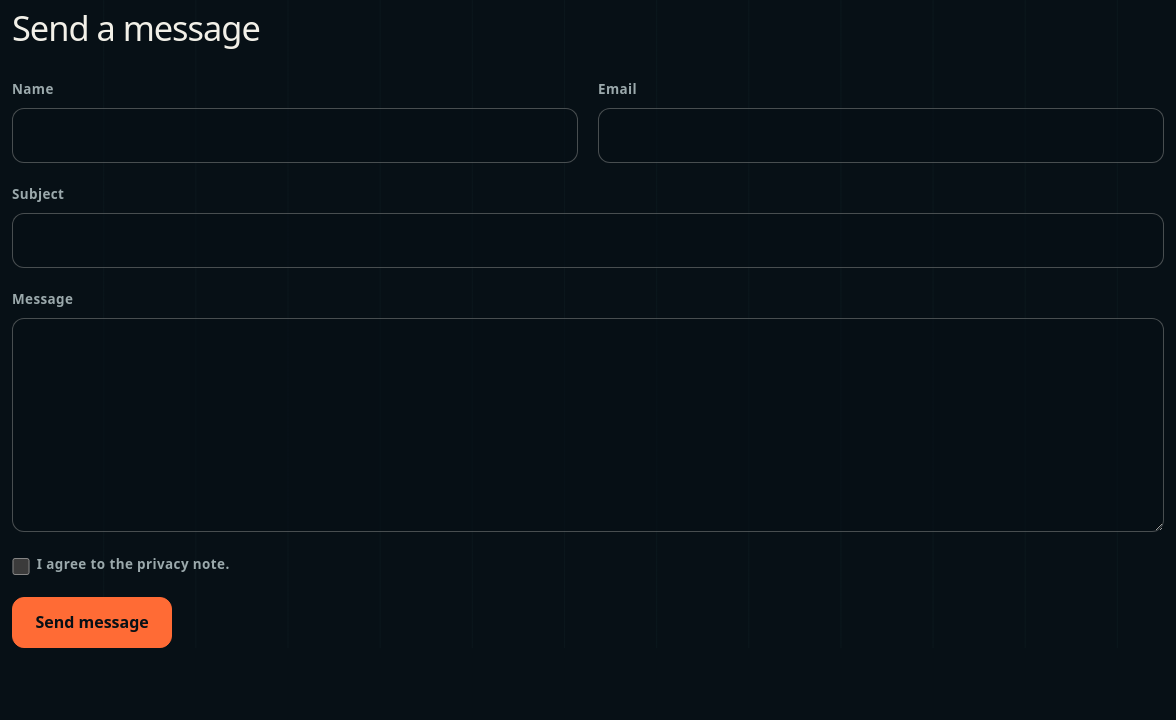
Test case: ContactForm › disables the submit button while delivery is pending
Type "Ada Lovelace" into the field labelled "Name" at [295, 136], box [12, 108, 578, 163]
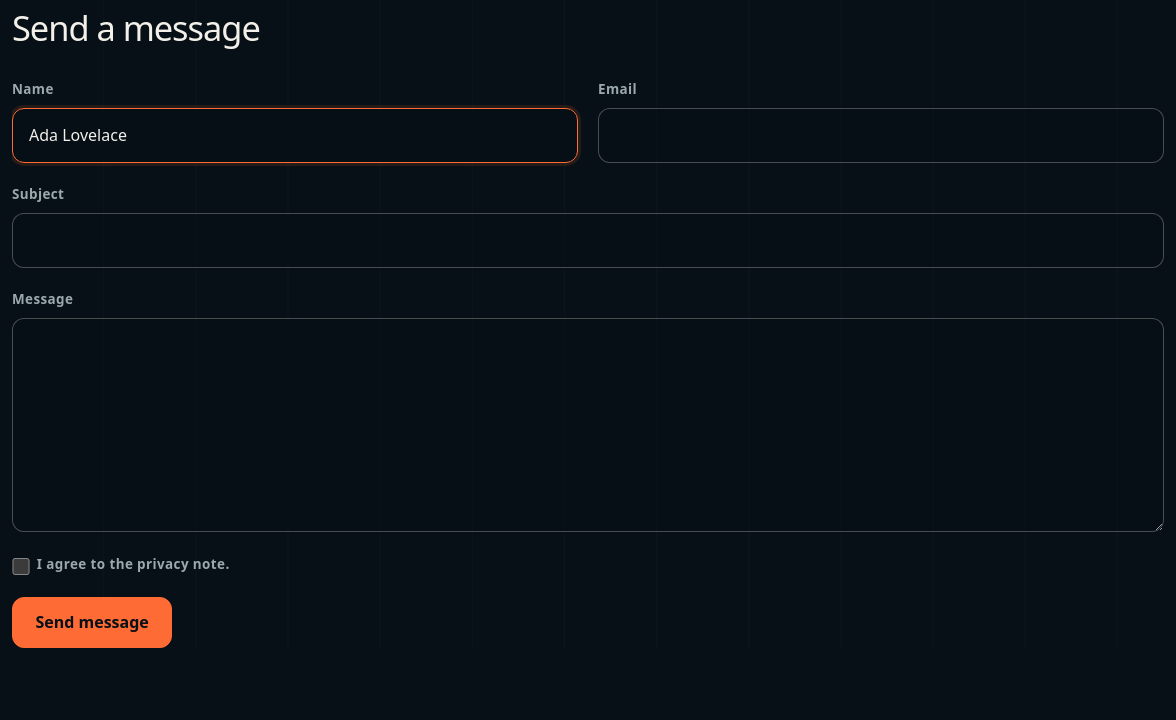
Type "ada@example.com" into the field labelled "Email" at [881, 136], box [598, 108, 1164, 163]
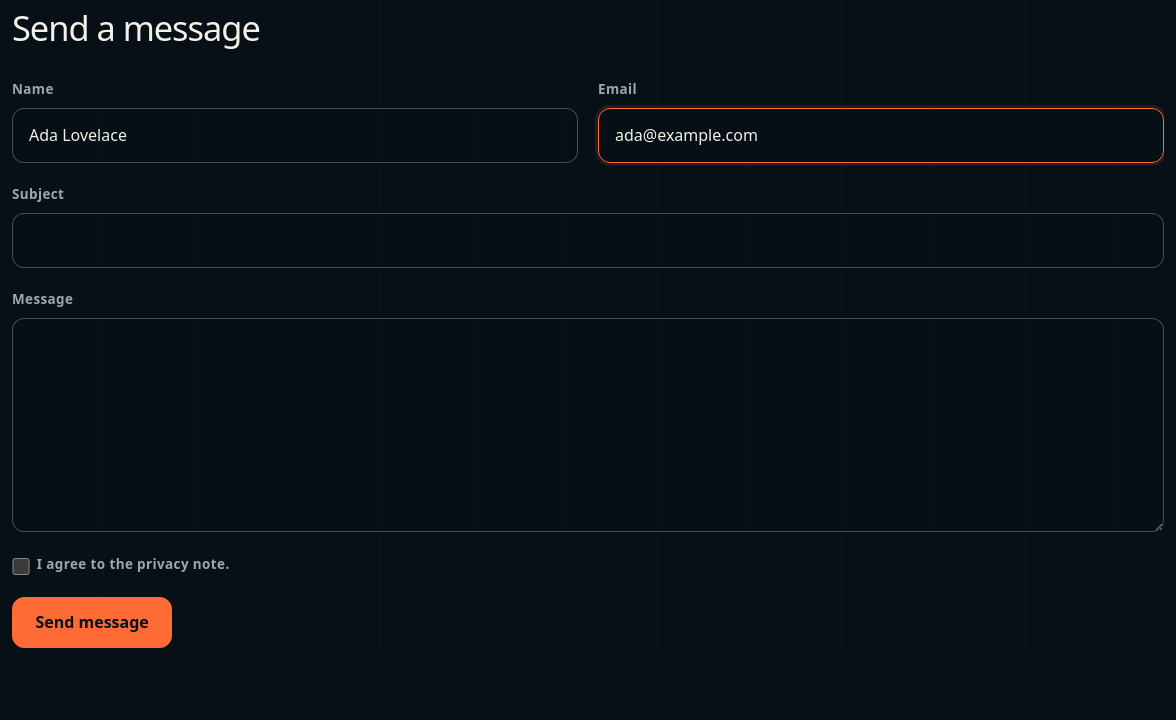
Type "A useful project" into the field labelled "Subject" at [588, 240], box [12, 213, 1164, 268]
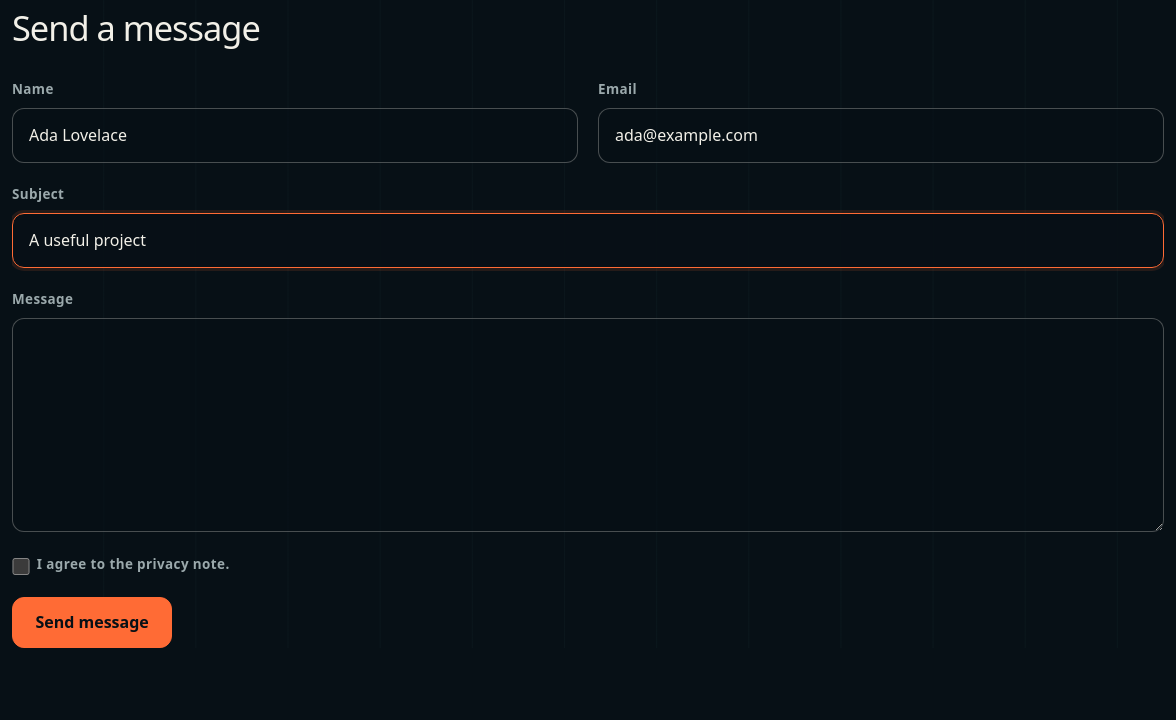
Type "This is a detailed project message for you." into the text box labelled "Message" at [588, 425], box [12, 318, 1164, 532]
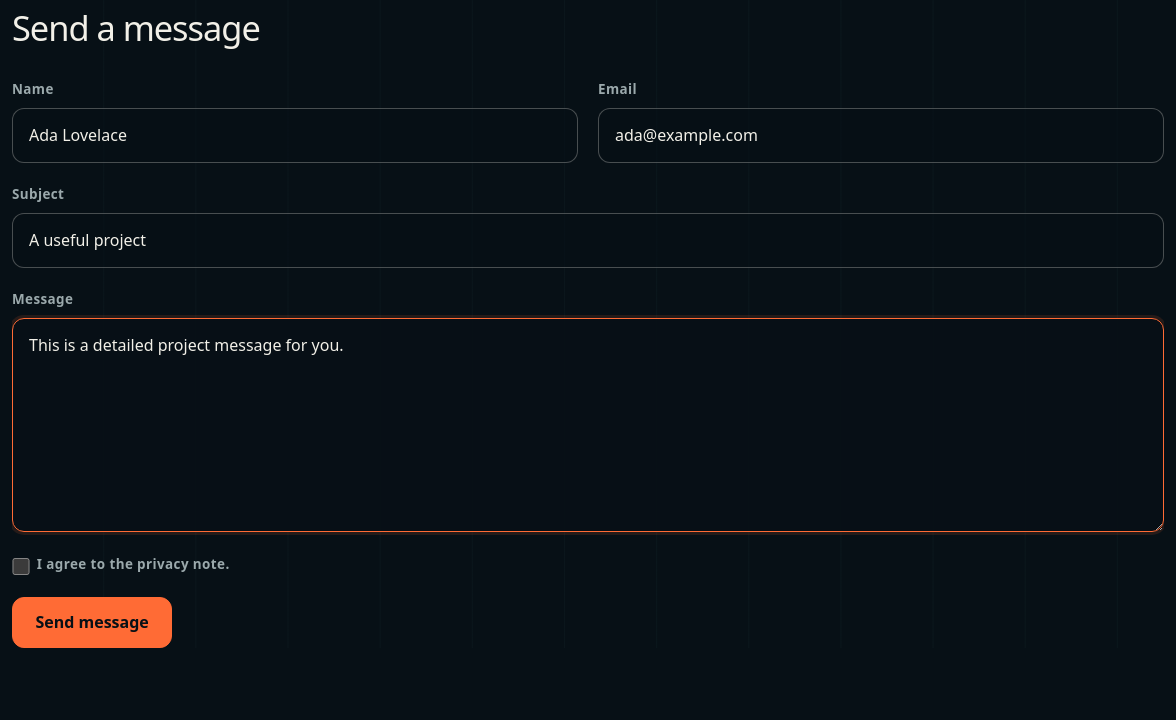
Click the checkbox labelled "I agree to the privacy note." at [21, 566], box [12, 558, 30, 575]
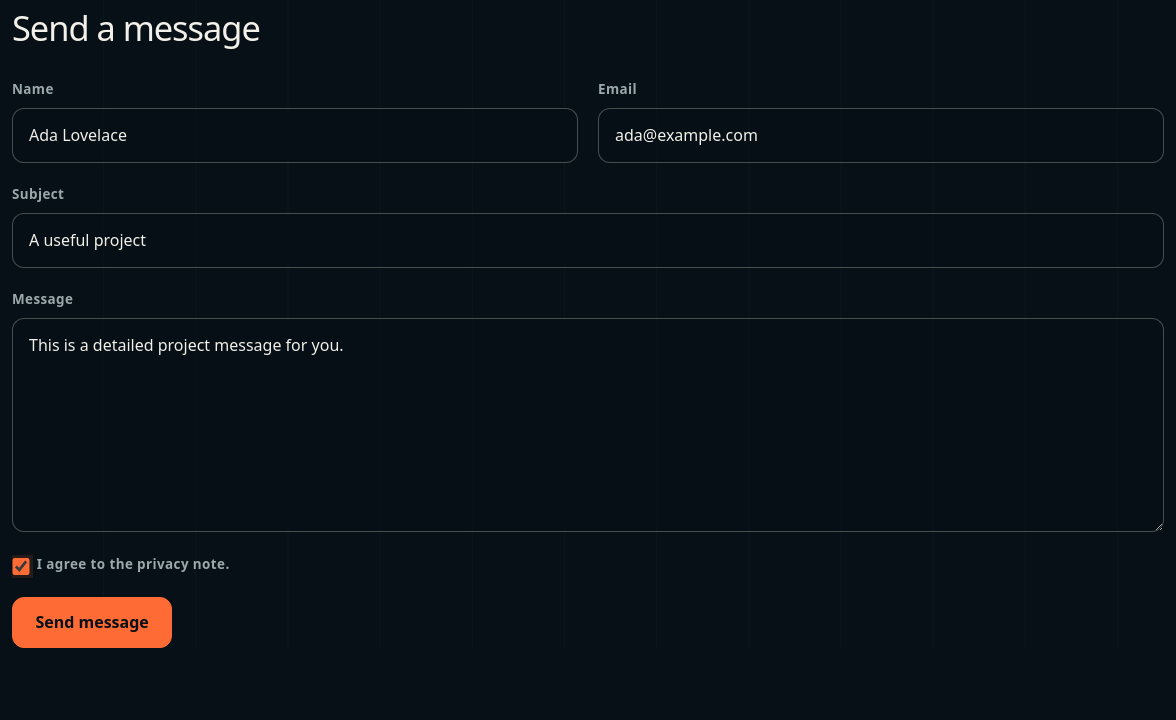
Click the button "Send message" at [92, 622], box [12, 597, 172, 648]
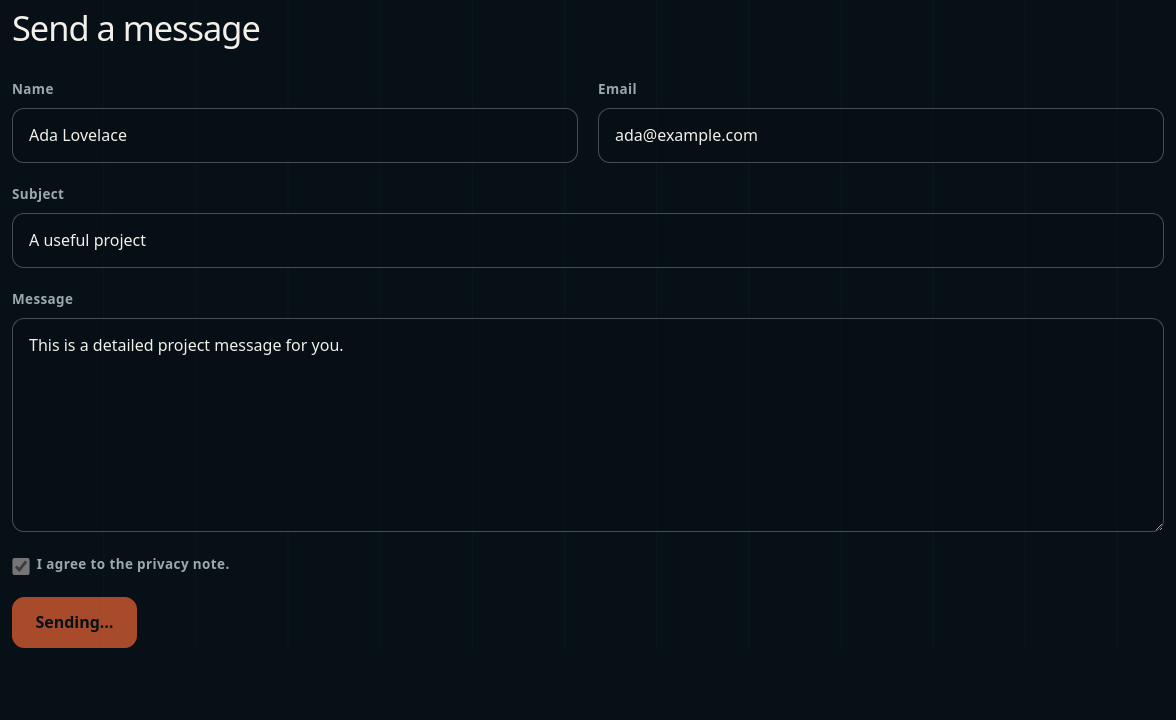
Result: the button "Sending…" is disabled at [12, 597, 137, 648]
